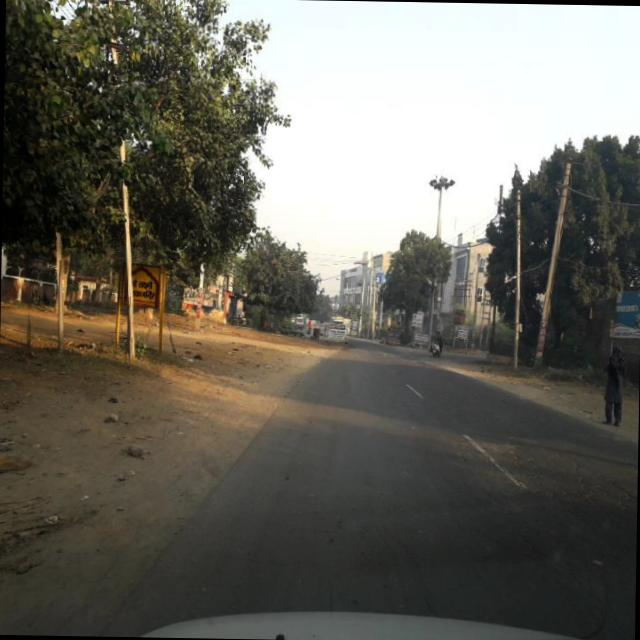crack: (526, 448, 637, 546)
